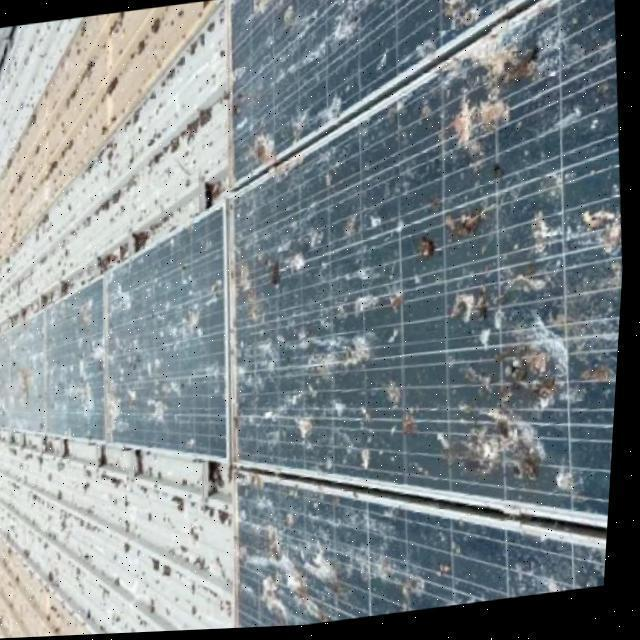Anomaly Solar Panel: (232, 0, 626, 530), (239, 473, 613, 631), (228, 0, 532, 190), (105, 200, 232, 463), (47, 275, 112, 444), (0, 309, 51, 434)
Surface Contaminant: (226, 0, 626, 631), (0, 201, 234, 459)
